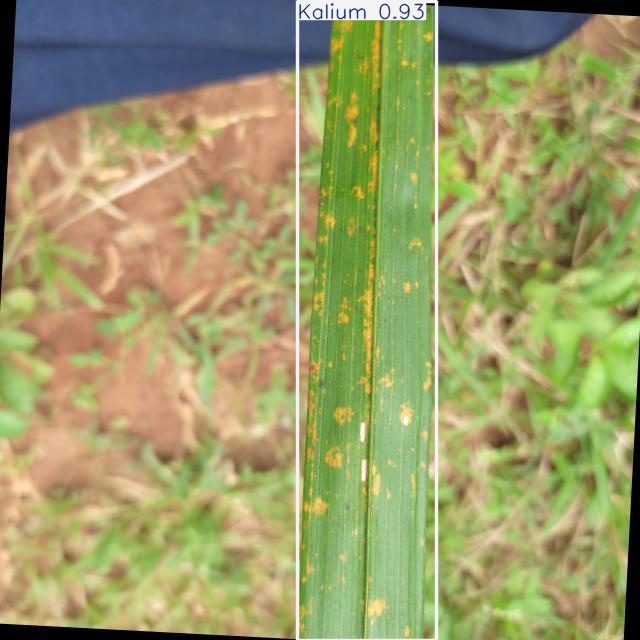Kalium: (298, 2, 436, 640)
